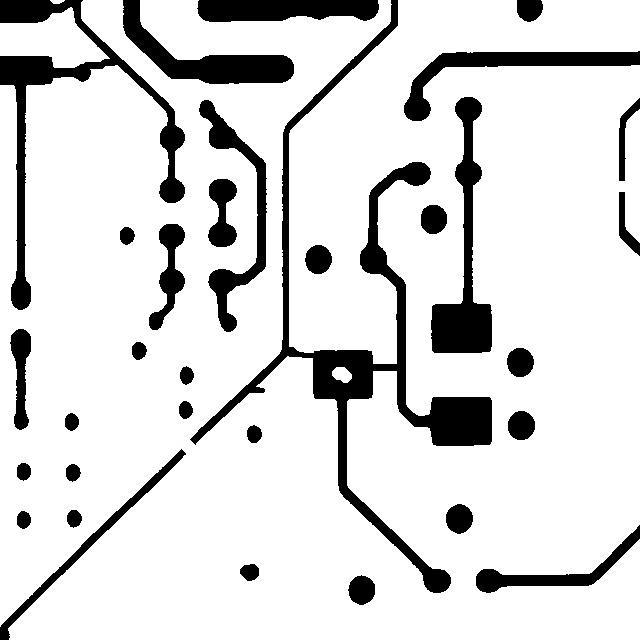copper: (230, 554, 268, 590)
open: (172, 430, 204, 463), (604, 171, 639, 201)
pin-hole: (322, 357, 361, 392)
short: (275, 337, 327, 367), (73, 49, 126, 78), (361, 354, 408, 380)
spur: (239, 377, 274, 402)
